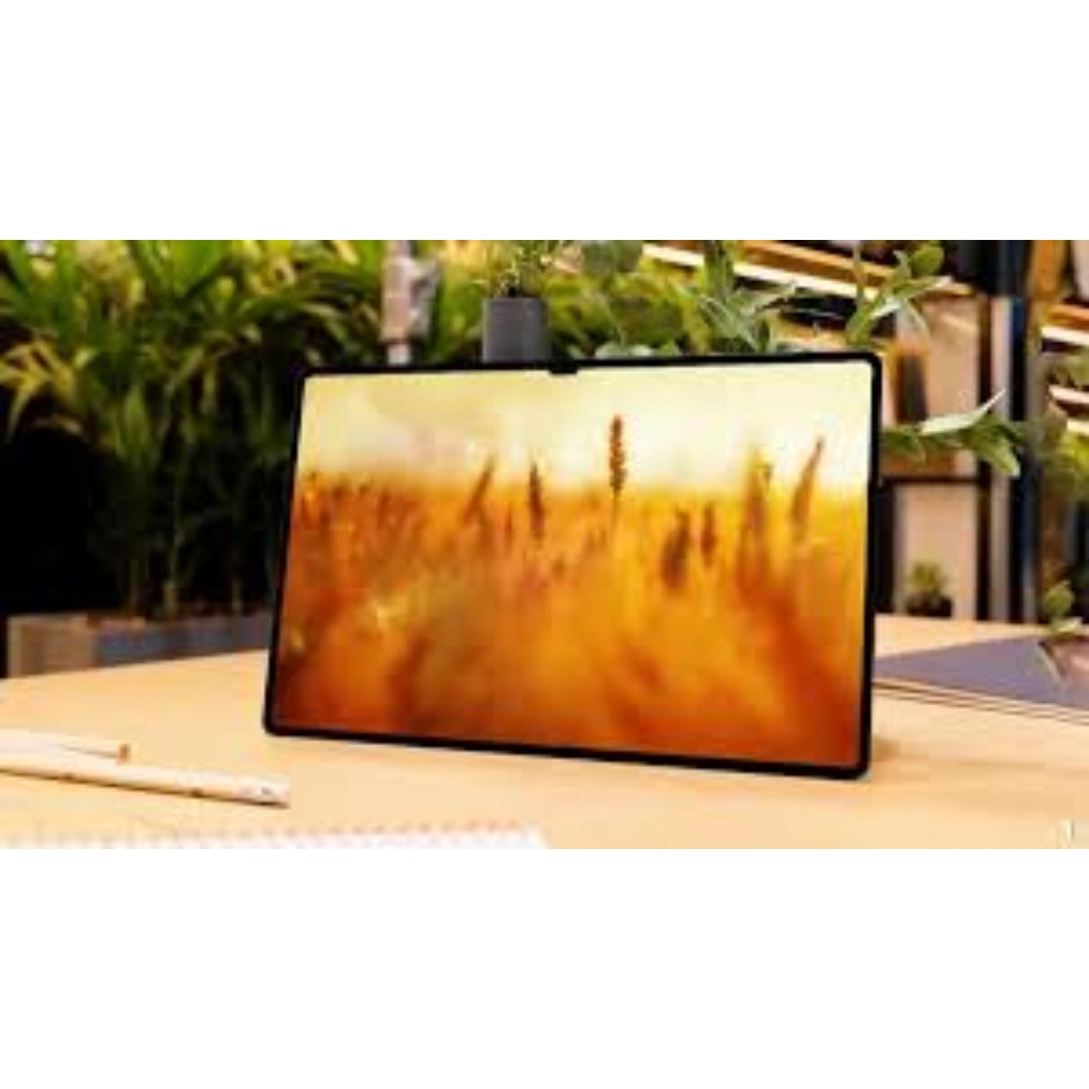Tablet_PC: (259, 351, 884, 784)
